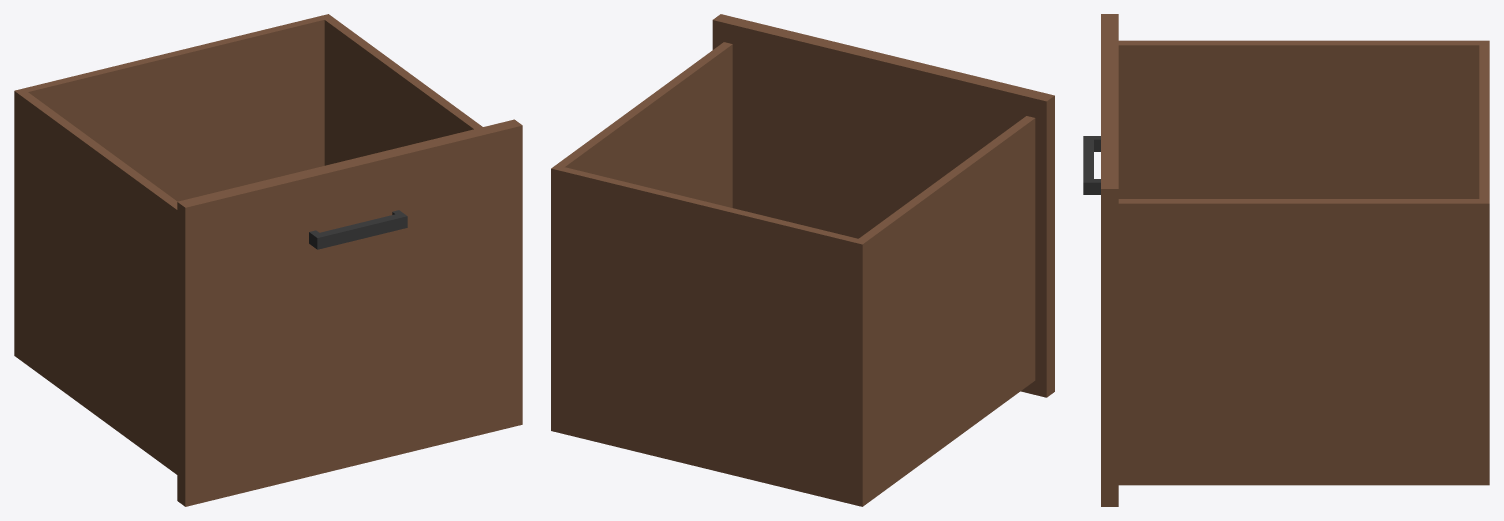
Rendered from Door2_C2_06.fbx.
3 views of the same model, side by side, from view 1: azimuth 30°, elevation 25°; view 2: azimuth 150°, elevation 25°; view 3: azimuth 270°, elevation 25° (orthographic). The views are drawn at different scales.
Parts seen in each view (by area): view 1: Door2_C2_06; view 2: Door2_C2_06; view 3: Door2_C2_06.
Part boxes in pixels (x1,y1,x2,y2): Door2_C2_06: (14,14,522,506); Door2_C2_06: (551,14,1054,506); Door2_C2_06: (1083,14,1489,506).
Bounding box in the file's own units: 59 × 50 × 57.89.
